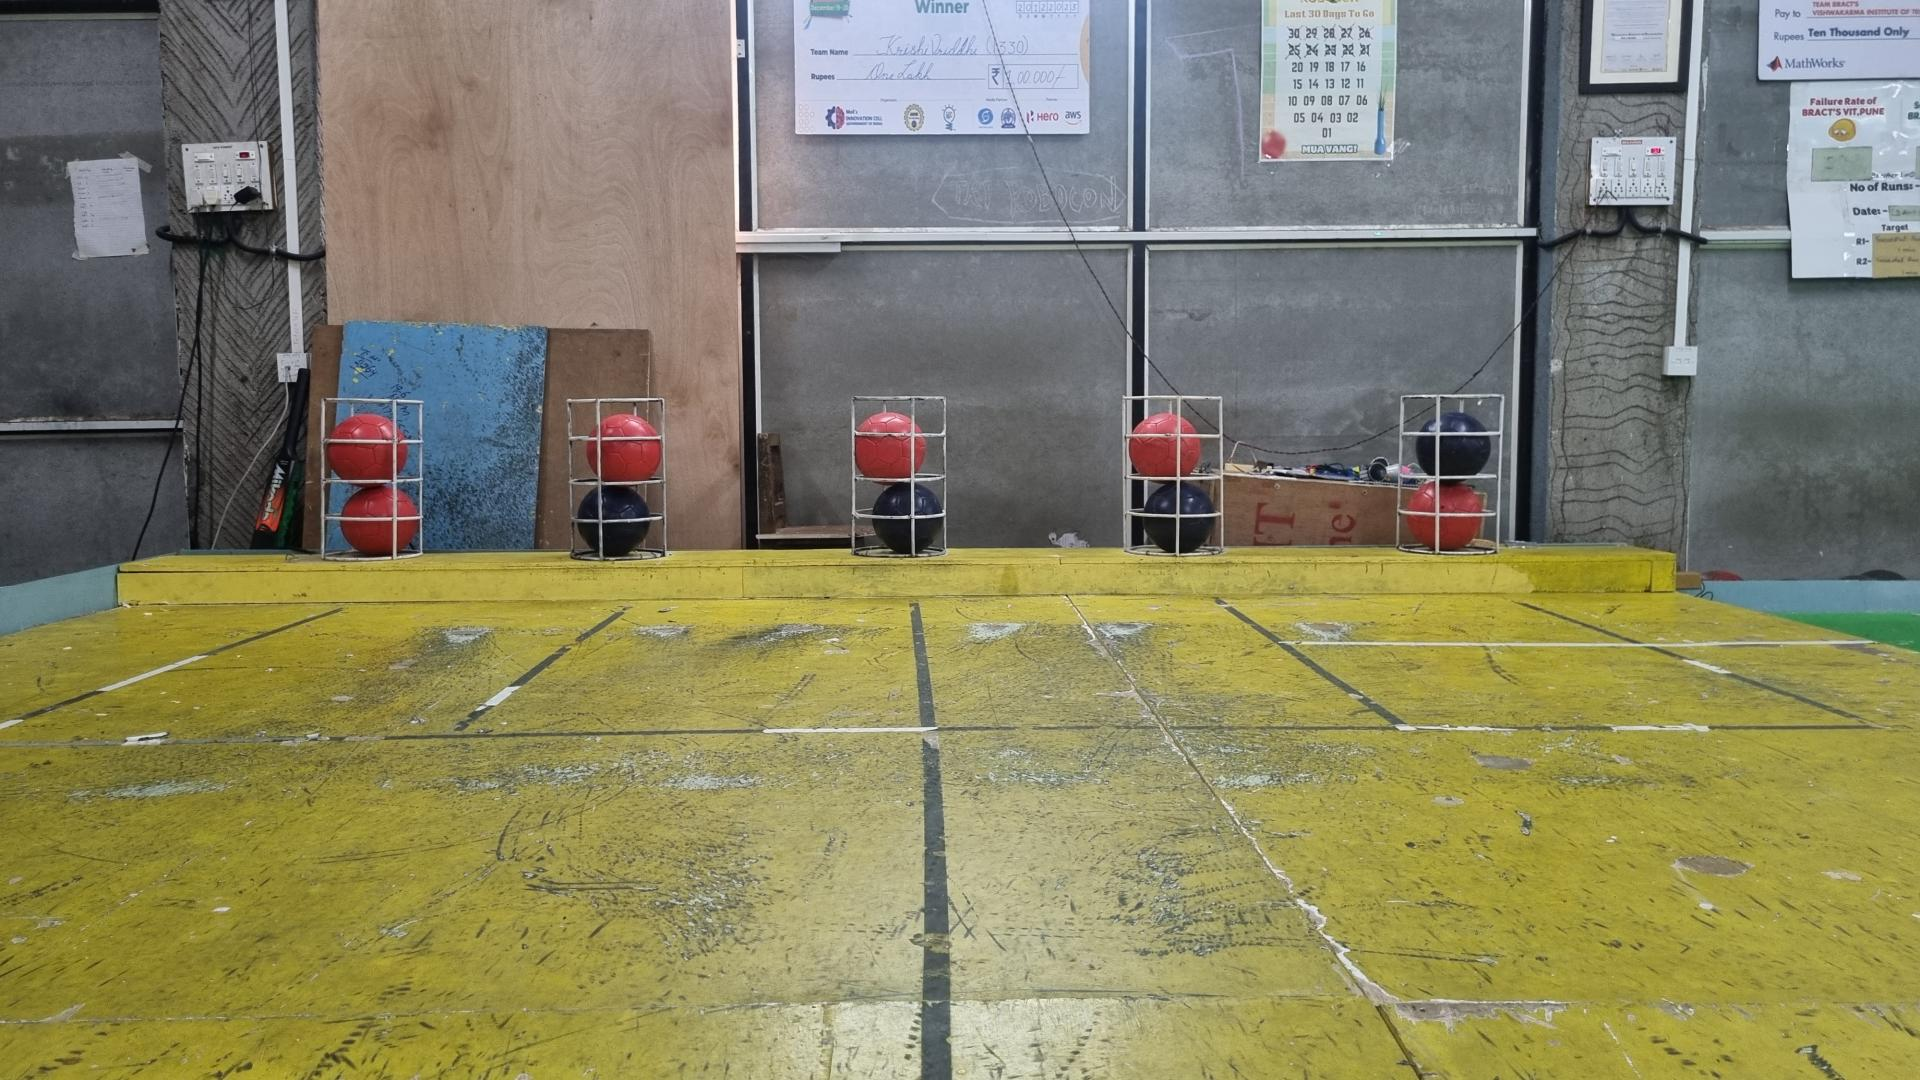dhoka: (1143, 480, 1215, 555), (578, 487, 653, 558), (870, 484, 942, 555), (1414, 413, 1493, 476)
laale: (326, 413, 409, 484), (1406, 480, 1485, 551), (342, 487, 419, 558), (585, 413, 659, 484), (855, 413, 926, 480), (1129, 413, 1200, 476)
